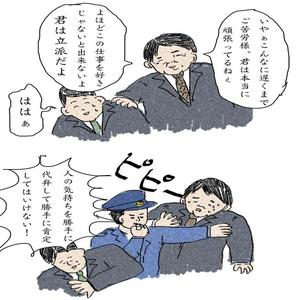bubble: (0, 157, 113, 255), (205, 10, 289, 108), (37, 3, 131, 90), (9, 84, 55, 134)
